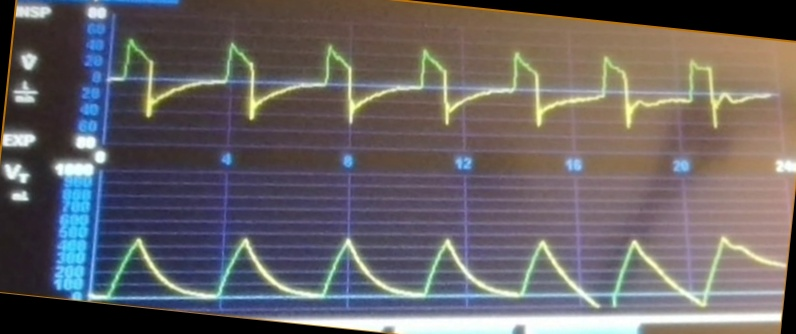Premature_cycling Flow: (114, 37, 771, 135)
Premature_cycling Volume: (100, 226, 780, 308)
